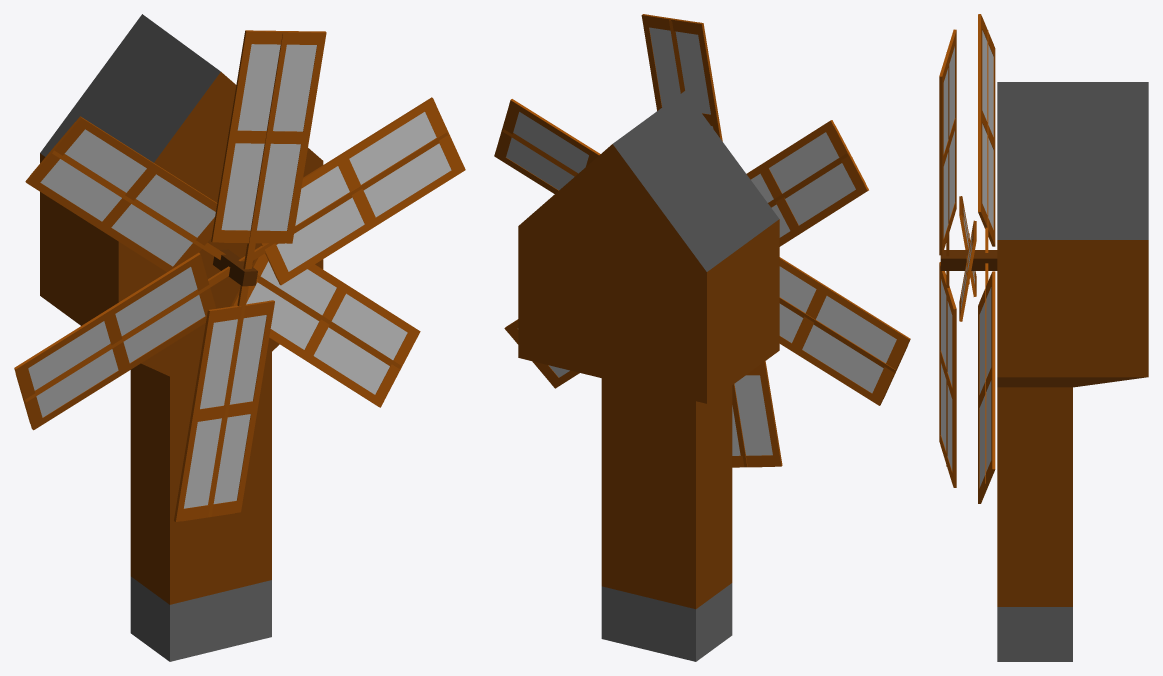
The model's file is Windmill.fbx.
3 views of the same model, side by side, from view 1: azimuth 30°, elevation 25°; view 2: azimuth 150°, elevation 25°; view 3: azimuth 270°, elevation 25° (orthographic). The views are drawn at different scales.
Visible parts, largest first — view 1: Windmill; view 2: Windmill; view 3: Windmill.
Boxes of the visible parts, <box> form: Windmill: <box>14,14,465,661</box>; Windmill: <box>494,14,910,661</box>; Windmill: <box>939,14,1148,661</box>.
Size of the model in its own units: 553 by 1321 by 1777.
